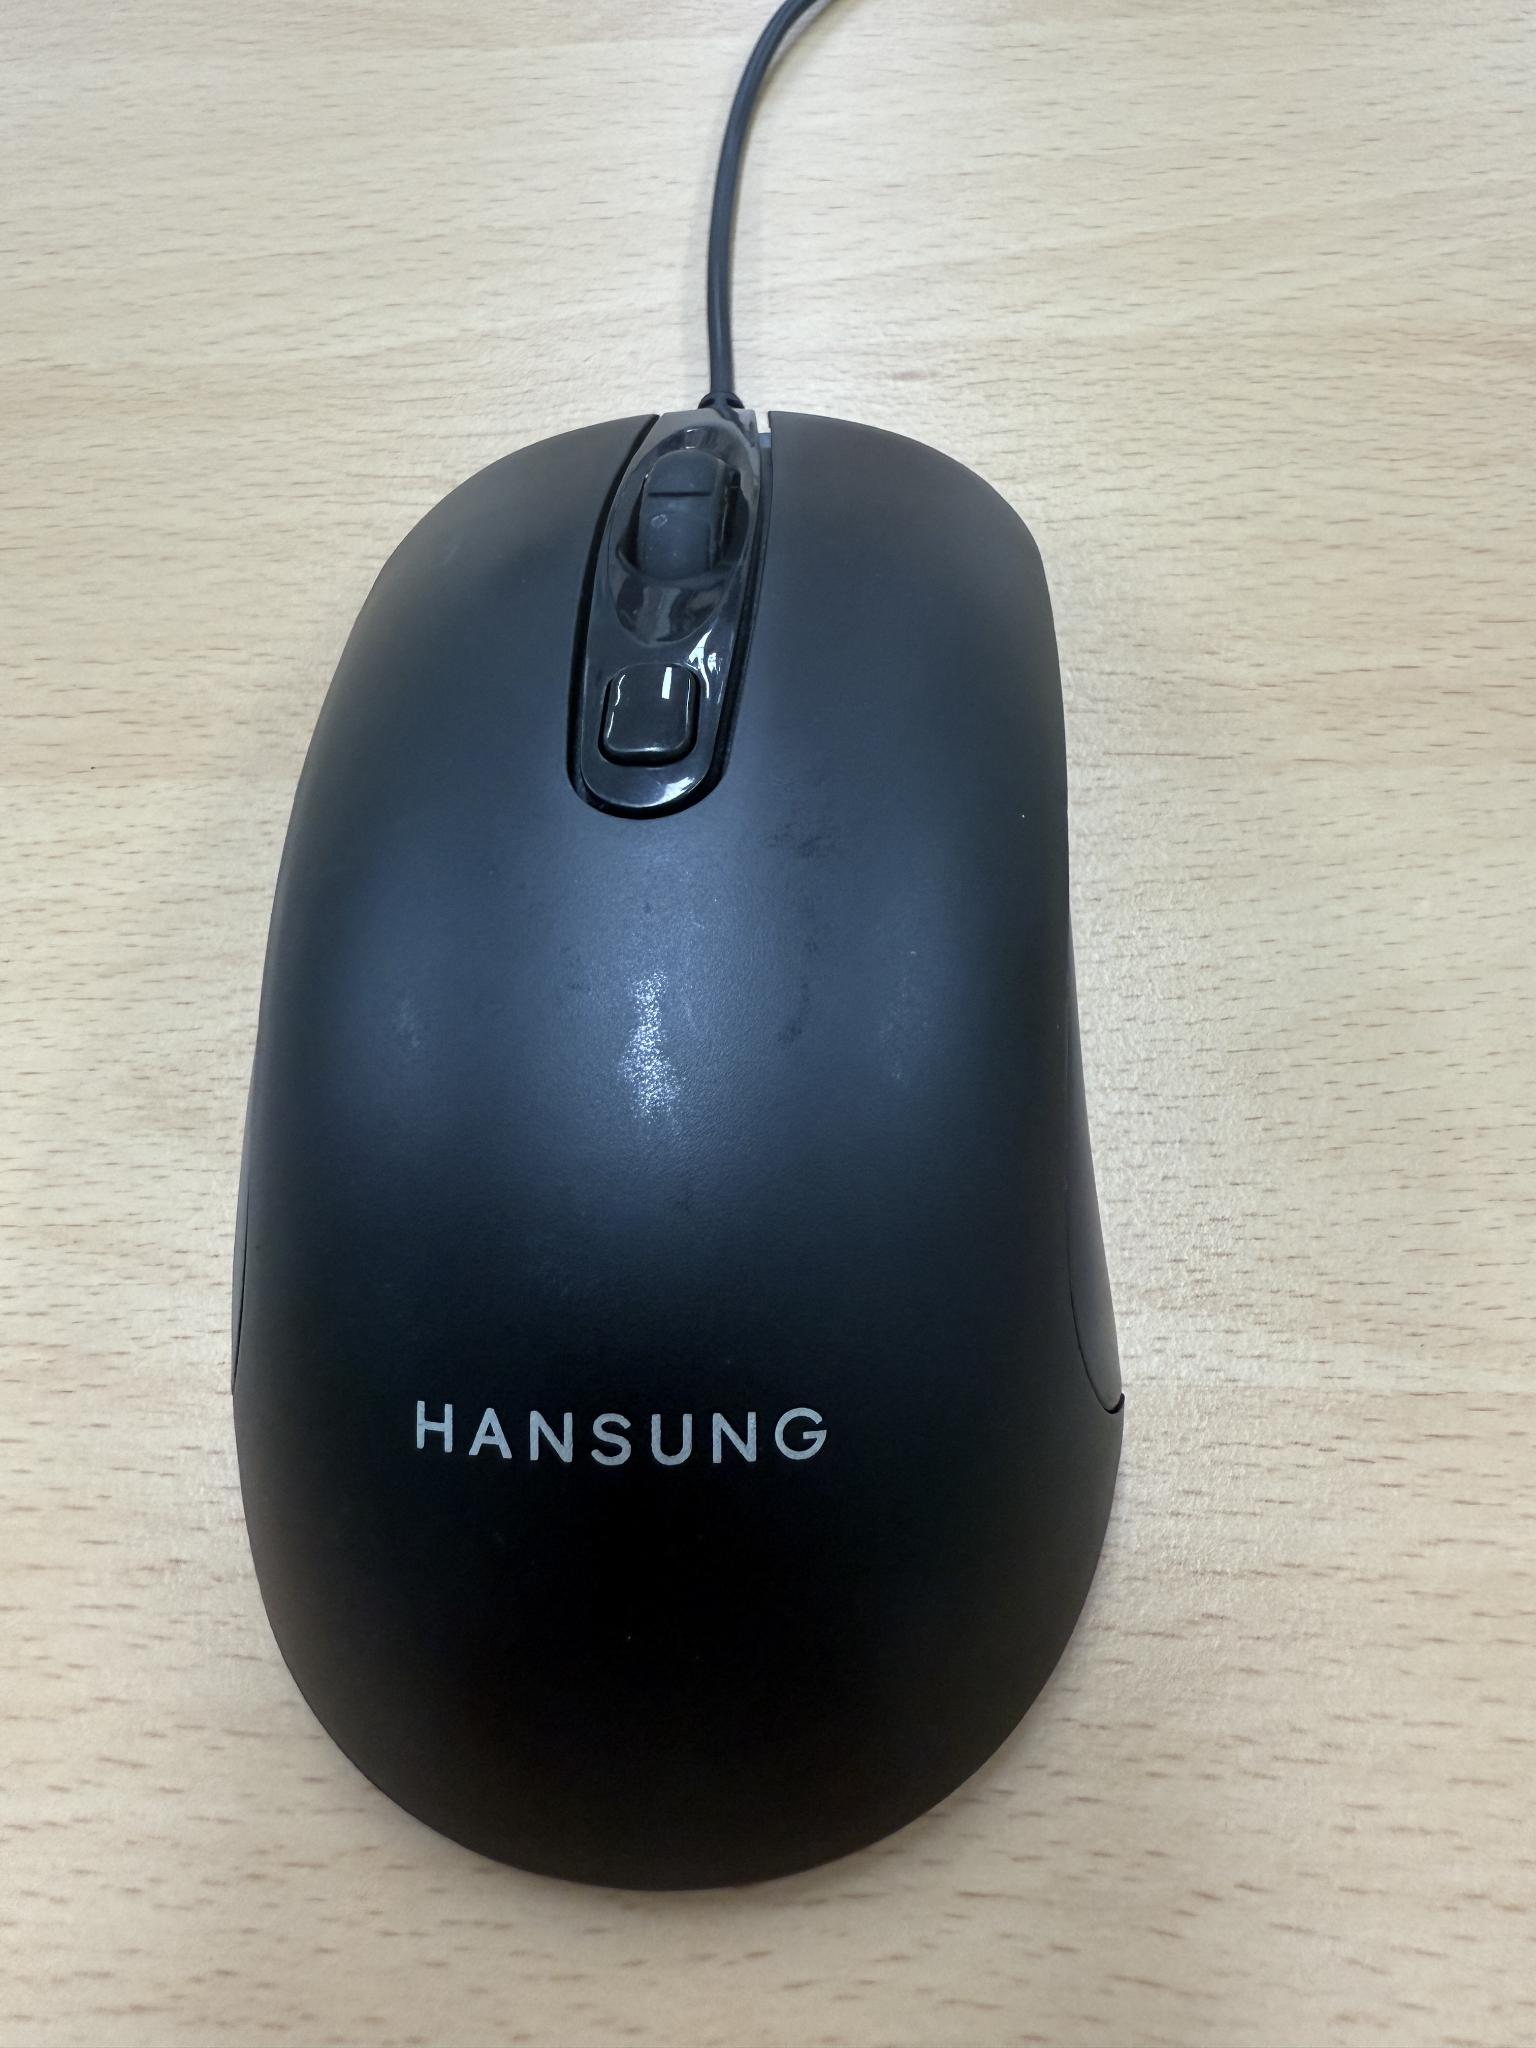front: (224, 406, 1128, 1892)
